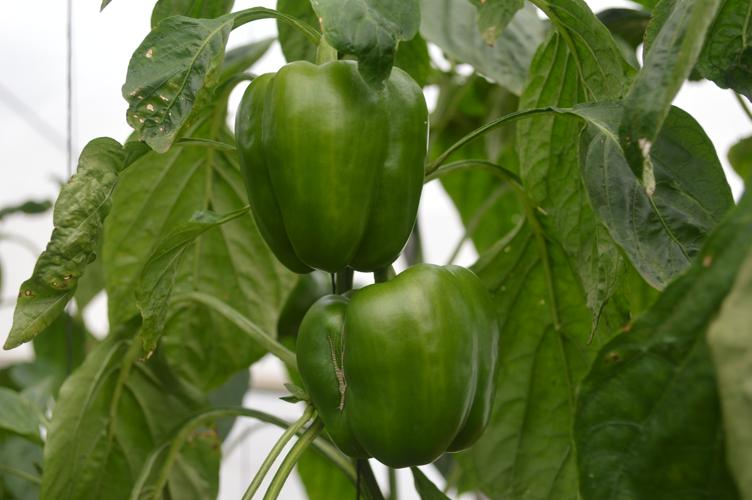BellPepper: (298, 261, 501, 462), (237, 59, 424, 269)
